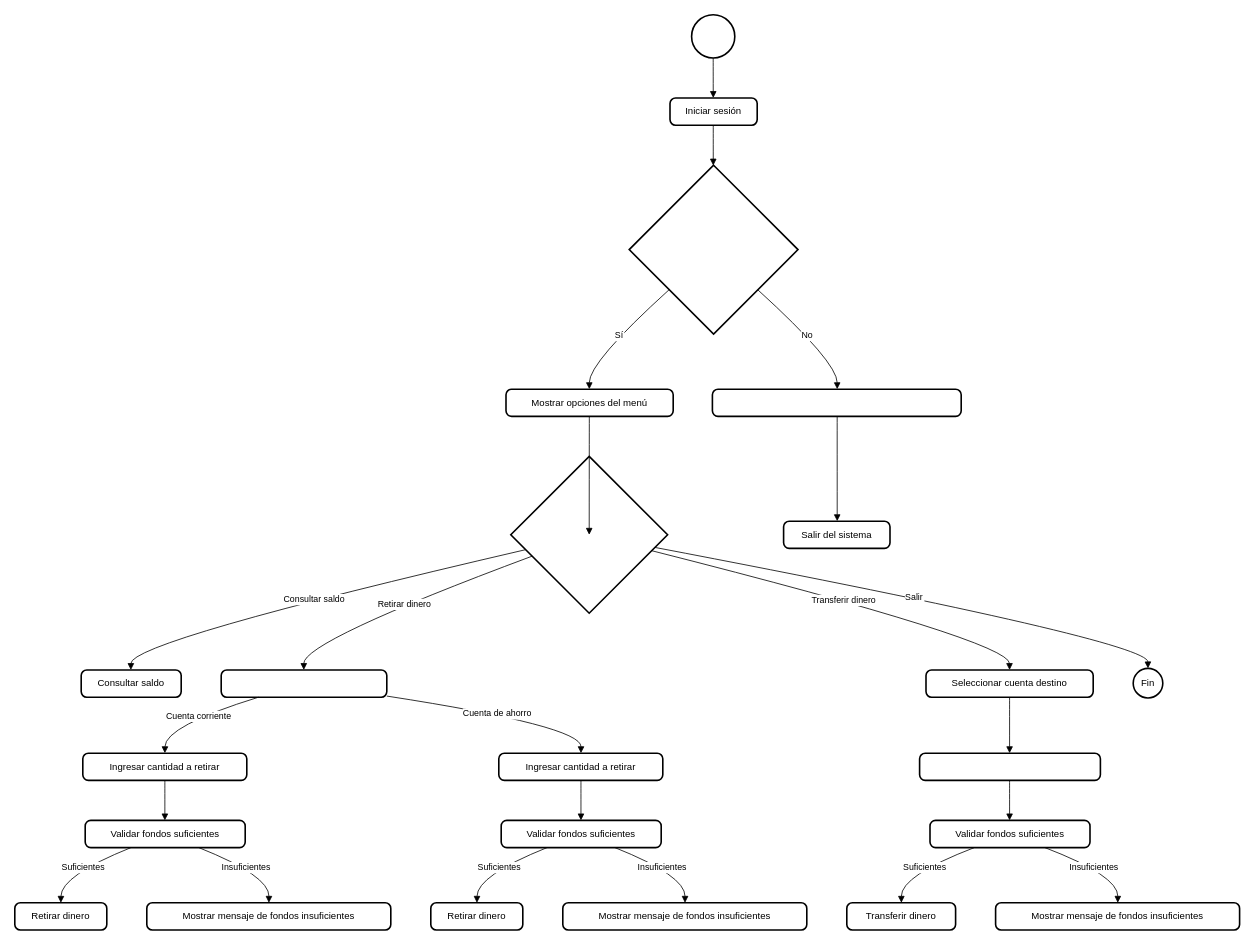
Image size: 1254x944. Some labels were removed from this diagram. The shapes that lost their labels are listed below. From the top down, each one's centre as x and y in pixels, then its label:
the point at 712,36: Inicio
the point at 713,249: Autenticación exitosa?
the point at 836,402: Mostrar mensaje de autenticación fallida
the point at 589,534: Opción seleccionada
the point at 303,683: Seleccionar tipo de cuenta
the point at 1009,766: Ingresar cantidad a transferir
